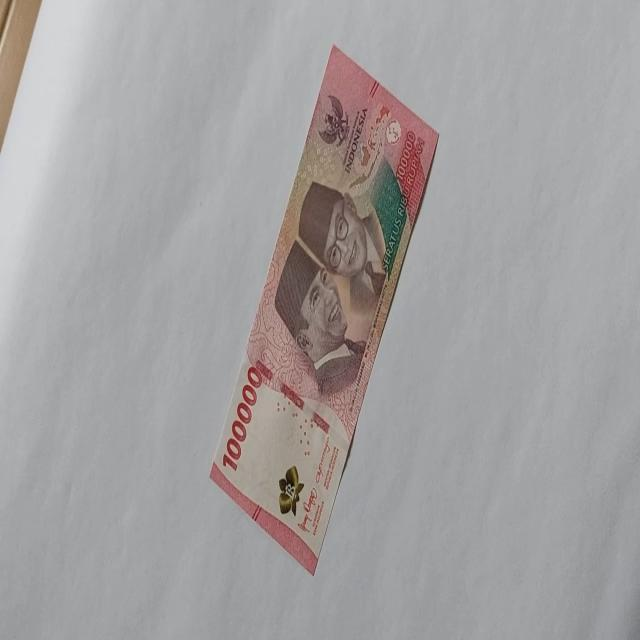seratus ribu rupiah: (208, 42, 440, 576)
